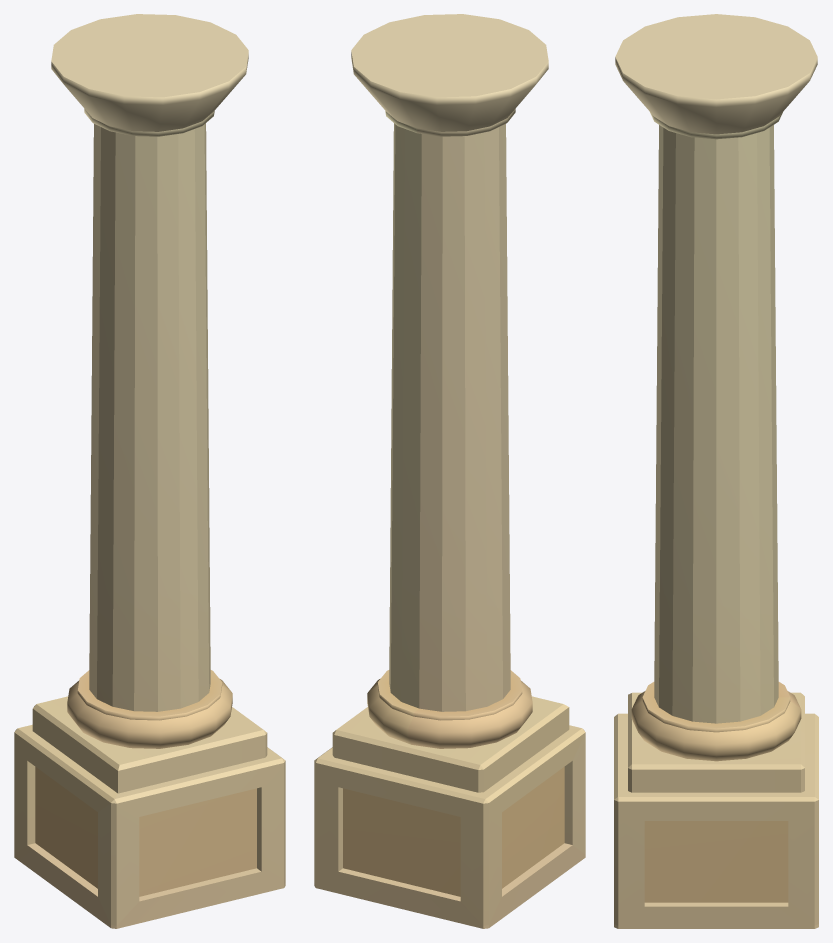
File: column.glb
3 views of the same model, side by side, from view 1: azimuth 30°, elevation 25°; view 2: azimuth 150°, elevation 25°; view 3: azimuth 270°, elevation 25° (orthographic).
Visible parts, largest first — view 1: column; view 2: column; view 3: column.
Boxes of the visible parts, <box> form: column: <box>14,14,285,928</box>; column: <box>314,14,585,928</box>; column: <box>614,14,818,928</box>.
Size of the model in its own units: 2 by 8.93 by 2.
1 material, 1 textured.
